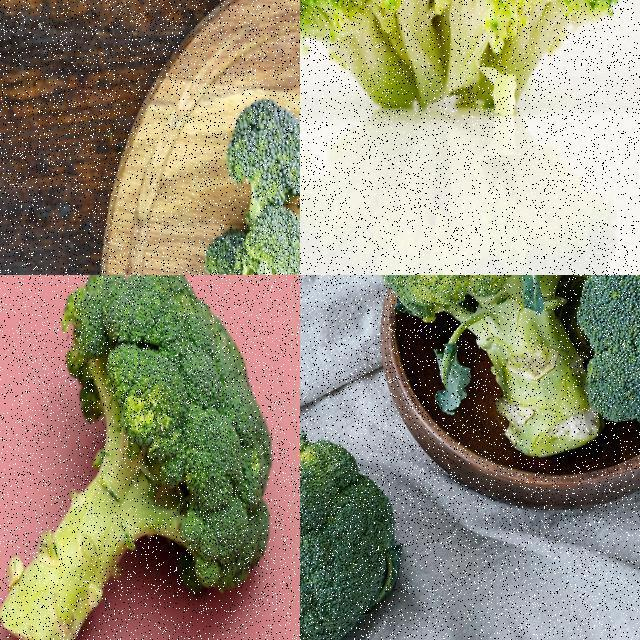broccoli: (0, 275, 283, 639), (300, 0, 622, 133), (373, 275, 604, 455), (300, 401, 393, 639), (229, 94, 299, 238), (581, 275, 639, 447), (232, 208, 299, 274), (195, 221, 256, 274)
